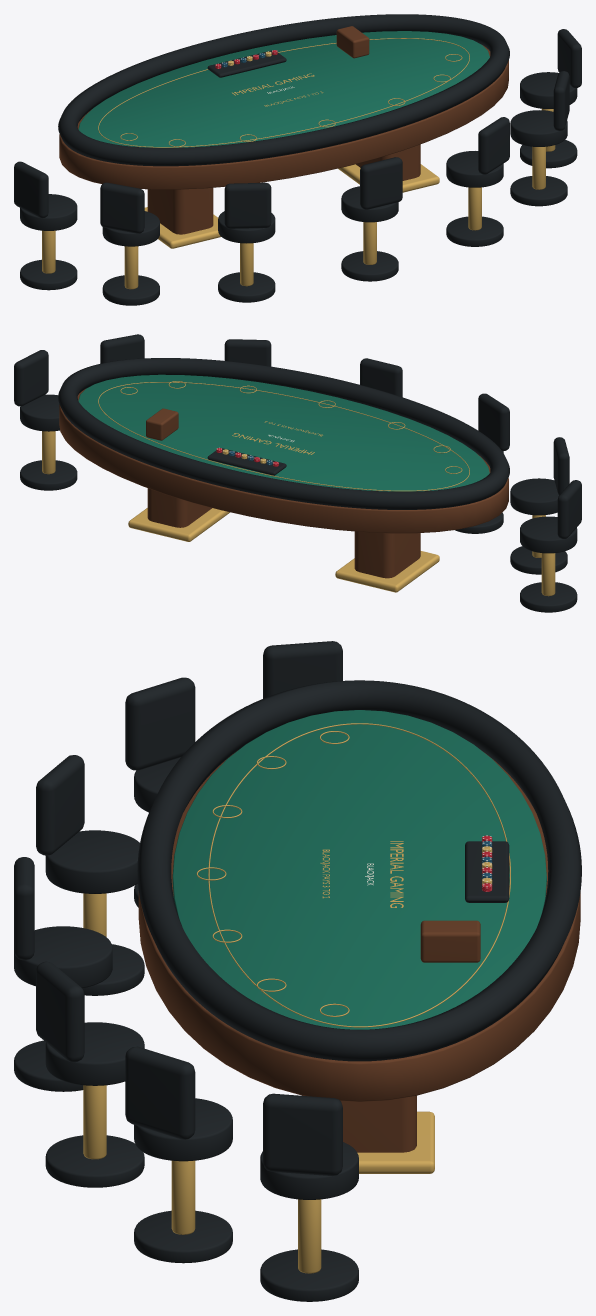
The model's file is Blackjack_7.glb.
3 views of the same model, one above another, from view 1: azimuth 30°, elevation 25°; view 2: azimuth 150°, elevation 25°; view 3: azimuth 270°, elevation 25° (orthographic). The views are drawn at different scales.
Visible parts, largest first — view 1: Emerald playing surface, Padded perimeter rail, Walnut table cabinet, Pedestal, Seat 02 backrest, Seat 01 backrest, Seat 03 backrest, Seat 05 cushion, Seat 00 backrest, Seat 04 backrest, Seat 04 cushion, Seat 00 cushion (+25 smaller); view 2: Emerald playing surface, Padded perimeter rail, Walnut table cabinet, Pedestal, Seat 06 backrest, Seat 01 cushion, Pedestal brass shoe, Pedestal.001, Seat 00 cushion, Pedestal brass shoe.001, Seat 02 backrest, Seat 06 foot (+14 smaller); view 3: Emerald playing surface, Padded perimeter rail, Walnut table cabinet, Seat 06 backrest, Seat 05 backrest, Seat 01 backrest, Seat 02 cushion, Seat 03 cushion, Seat 02 backrest, Seat 04 backrest, Seat 04 cushion, Seat 04 foot (+18 smaller).
Boxes of the visible parts, x1=… form: Emerald playing surface: x1=78, y1=31, x2=489, y2=147; Padded perimeter rail: x1=58, y1=14, x2=509, y2=166; Walnut table cabinet: x1=59, y1=45, x2=508, y2=189; Pedestal: x1=147, y1=187, x2=213, y2=234; Seat 02 backrest: x1=224, y1=182, x2=271, y2=228; Seat 01 backrest: x1=100, y1=182, x2=144, y2=233; Seat 03 backrest: x1=360, y1=157, x2=402, y2=209; Seat 05 cushion: x1=510, y1=110, x2=567, y2=146; Seat 00 backrest: x1=14, y1=161, x2=48, y2=218; Seat 04 backrest: x1=478, y1=117, x2=509, y2=174; Seat 04 cushion: x1=446, y1=151, x2=503, y2=187; Seat 00 cushion: x1=20, y1=194, x2=77, y2=230; Emerald playing surface: x1=78, y1=374, x2=489, y2=491; Padded perimeter rail: x1=58, y1=358, x2=509, y2=509; Walnut table cabinet: x1=59, y1=389, x2=508, y2=533; Pedestal: x1=354, y1=531, x2=420, y2=578; Seat 06 backrest: x1=14, y1=350, x2=48, y2=406; Seat 01 cushion: x1=510, y1=478, x2=558, y2=515; Pedestal brass shoe: x1=335, y1=551, x2=439, y2=592; Pedestal.001: x1=147, y1=488, x2=211, y2=527; Seat 00 cushion: x1=520, y1=516, x2=577, y2=553; Pedestal brass shoe.001: x1=128, y1=508, x2=229, y2=541; Seat 02 backrest: x1=478, y1=393, x2=509, y2=450; Seat 06 foot: x1=20, y1=460, x2=77, y2=490; Emerald playing surface: x1=172, y1=710, x2=546, y2=1029; Padded perimeter rail: x1=137, y1=680, x2=581, y2=1061; Walnut table cabinet: x1=138, y1=752, x2=580, y2=1101; Seat 06 backrest: x1=263, y1=1093, x2=342, y2=1176; Seat 05 backrest: x1=125, y1=1046, x2=195, y2=1139; Seat 01 backrest: x1=125, y1=677, x2=195, y2=770; Seat 02 cushion: x1=45, y1=830, x2=139, y2=893; Seat 03 cushion: x1=14, y1=926, x2=112, y2=988; Seat 02 backrest: x1=36, y1=755, x2=84, y2=855; Seat 04 backrest: x1=36, y1=961, x2=84, y2=1062; Seat 04 cushion: x1=45, y1=1022, x2=144, y2=1085; Seat 04 foot: x1=45, y1=1135, x2=144, y2=1187.
Size of the model in its own units: 4.24 by 0.9575 by 2.19.
